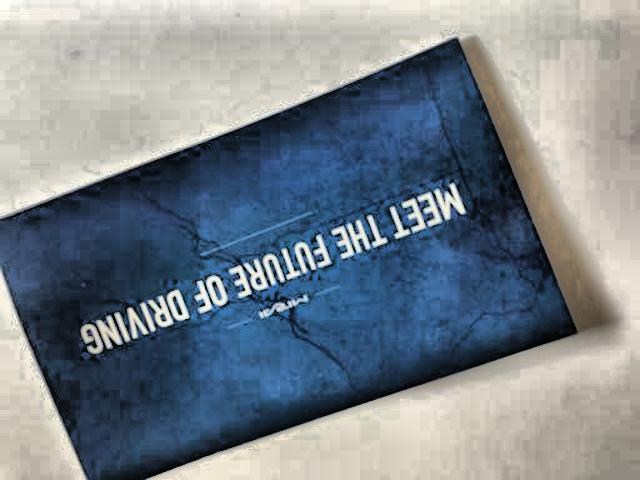Paper: (5, 12, 640, 480)
